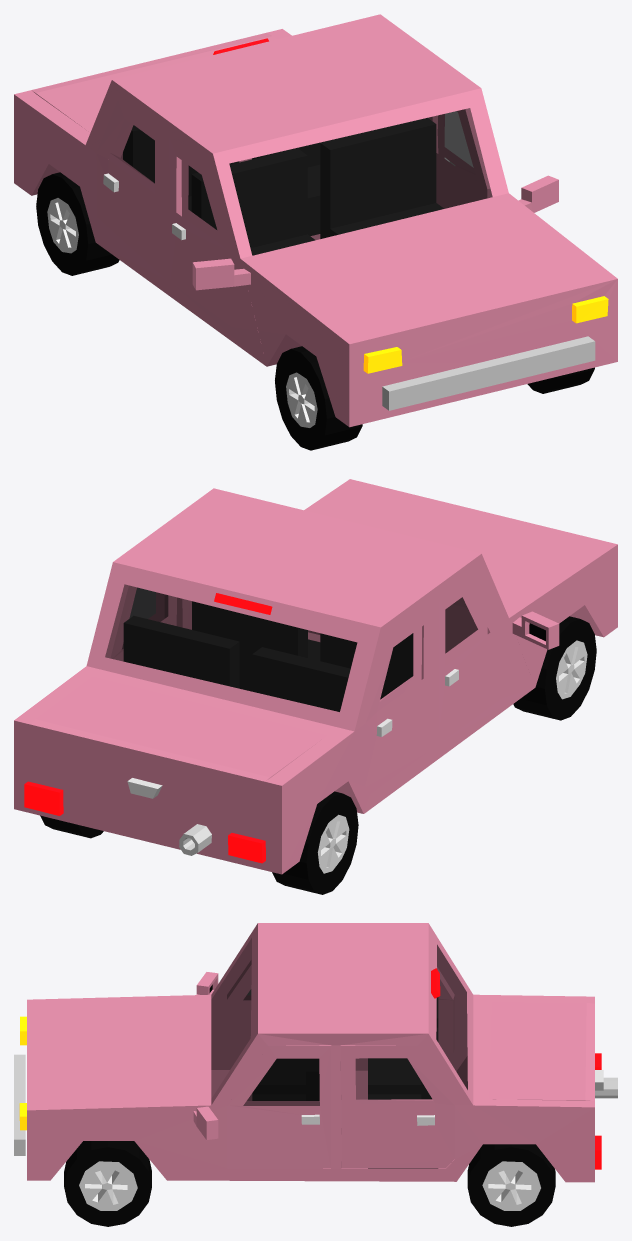
The model's file is car.glb.
The picture shows the model from 3 angles, top to bottom: view 1: azimuth 30°, elevation 25°; view 2: azimuth 150°, elevation 25°; view 3: azimuth 270°, elevation 25°; orthographic projection. The views are drawn at different scales.
Parts seen in each view (by area): view 1: Cube001, Cube001_2, FrontHatch, Cube001_1, Cube010, Cube002, FrontBumber, Cube005, Cylinder002_1, Cylinder003_1, Cube003, Cube001_3 (+8 smaller); view 2: Cube001, Cube005, Cube001_2, Cube001_1, FrontHatch, Cube010, Cube002, Cylinder003_1, Cylinder002_1, Cube001_4, Cube012, Cylinder002 (+7 smaller); view 3: Cube001, FrontHatch, Cube005, Cube012, Cube003, Cube001_2, Cube001_1, Cylinder001_1, Cylinder004_1, Cube003_1, Cube012_1, Cylinder001 (+7 smaller).
Boxes of the visible parts, x1,y1,x2,y2 form: Cube001: [14, 14, 617, 427]; Cube001_2: [229, 108, 492, 255]; FrontHatch: [267, 206, 592, 334]; Cube001_1: [123, 118, 443, 255]; Cube010: [96, 99, 163, 276]; Cube002: [169, 136, 231, 326]; FrontBumber: [382, 336, 595, 410]; Cube005: [31, 32, 276, 132]; Cylinder002_1: [275, 346, 362, 450]; Cylinder003_1: [36, 172, 119, 275]; Cube003: [428, 108, 492, 208]; Cube001_3: [363, 296, 608, 373]; Cube001: [14, 479, 617, 874]; Cube005: [28, 677, 326, 828]; Cube001_2: [105, 584, 466, 711]; Cube001_1: [123, 601, 413, 711]; FrontHatch: [322, 489, 593, 605]; Cube010: [365, 604, 432, 793]; Cube002: [438, 573, 499, 744]; Cylinder003_1: [272, 791, 358, 894]; Cylinder002_1: [513, 616, 596, 720]; Cube001_4: [24, 593, 272, 863]; Cube012: [105, 584, 176, 661]; Cylinder002: [556, 640, 587, 699]; Cube001: [27, 923, 594, 1182]; FrontHatch: [40, 1002, 195, 1103]; Cube005: [489, 1002, 594, 1100]; Cube012: [340, 1045, 454, 1168]; Cube003: [227, 1045, 331, 1168]; Cube001_2: [211, 938, 467, 1097]; Cube001_1: [252, 997, 438, 1168]; Cylinder001_1: [64, 1141, 151, 1226]; Cylinder004_1: [467, 1144, 555, 1226]; Cube003_1: [243, 1058, 319, 1105]; Cube012_1: [355, 1058, 431, 1099]; Cylinder001: [79, 1161, 137, 1210].
Bounding box in the file's own units: 6.76 × 4.06 × 11.53.
